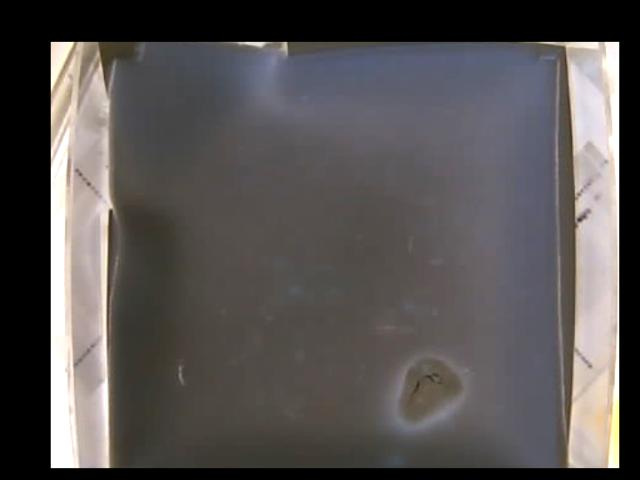Pebble: (396, 354, 462, 424)
